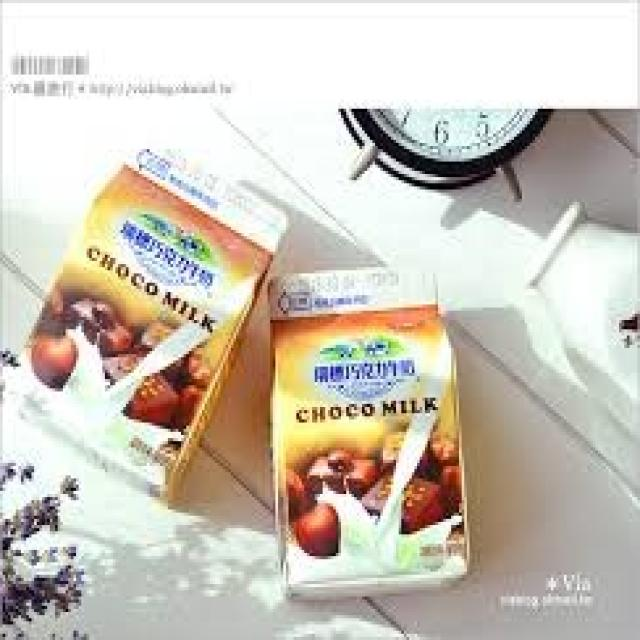RuiSui_ChocoMilk: (31, 139, 280, 494), (270, 276, 480, 592)
